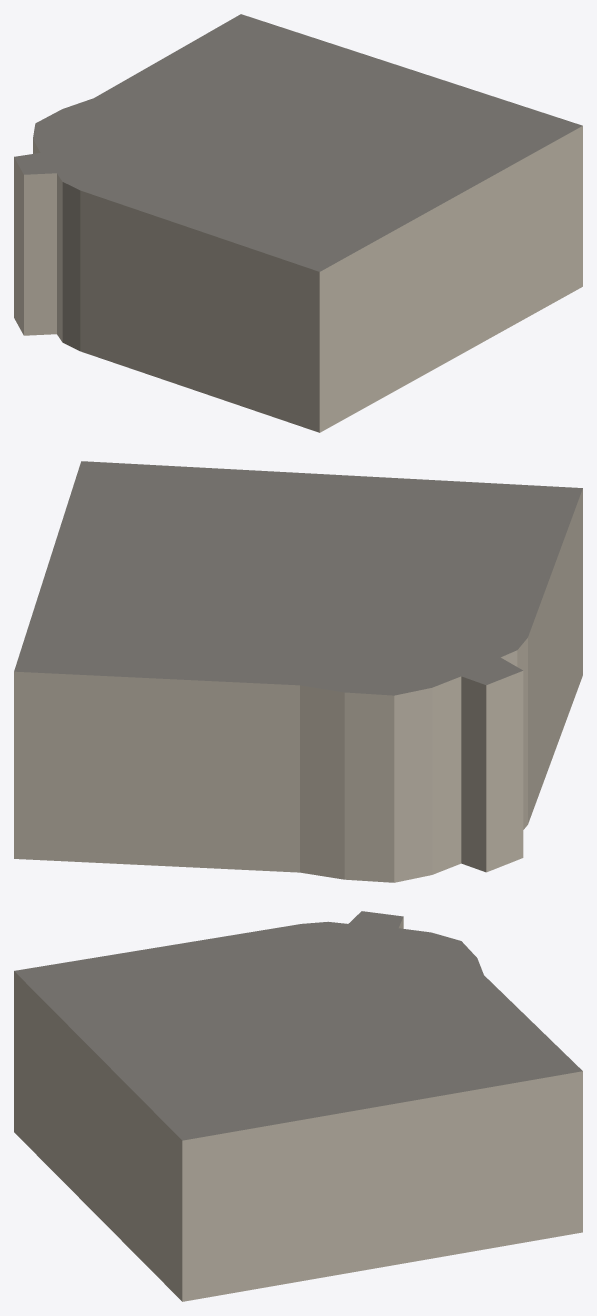
The picture shows the model from 3 angles, top to bottom: view 1: azimuth 30°, elevation 25°; view 2: azimuth 150°, elevation 25°; view 3: azimuth 270°, elevation 25°; orthographic projection. The views are drawn at different scales.
Parts seen in each view (by area): view 1: HP-w165824718; view 2: HP-w165824718; view 3: HP-w165824718.
Part boxes in pixels (box(x1,y1,x2,y2)): HP-w165824718: box(14, 14, 582, 432); HP-w165824718: box(14, 461, 582, 882); HP-w165824718: box(14, 911, 582, 1301).
Bounding box in the file's own units: 54.96 × 18 × 57.57.
